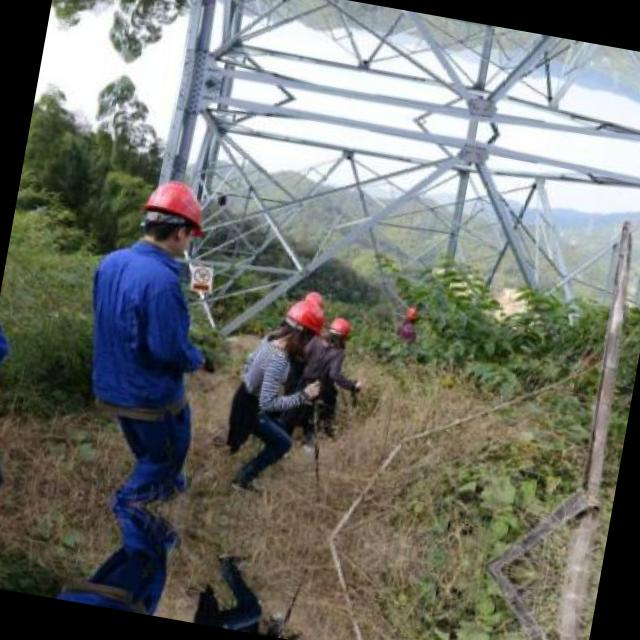helmet: (126, 168, 217, 266), (278, 294, 324, 352), (324, 312, 350, 346)
